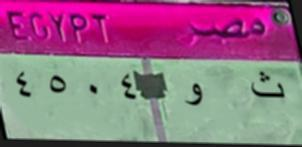0: (82, 80, 102, 103)
4: (13, 69, 33, 105), (116, 71, 137, 104)
5: (46, 71, 69, 102)
thaa: (248, 68, 288, 106)
waw: (184, 80, 206, 112)
